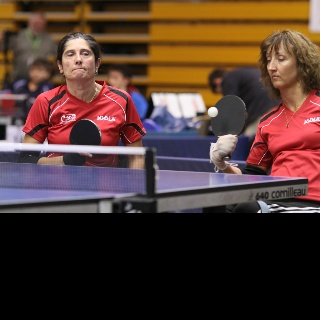without_mask: (62, 35, 93, 79), (107, 71, 123, 86)
